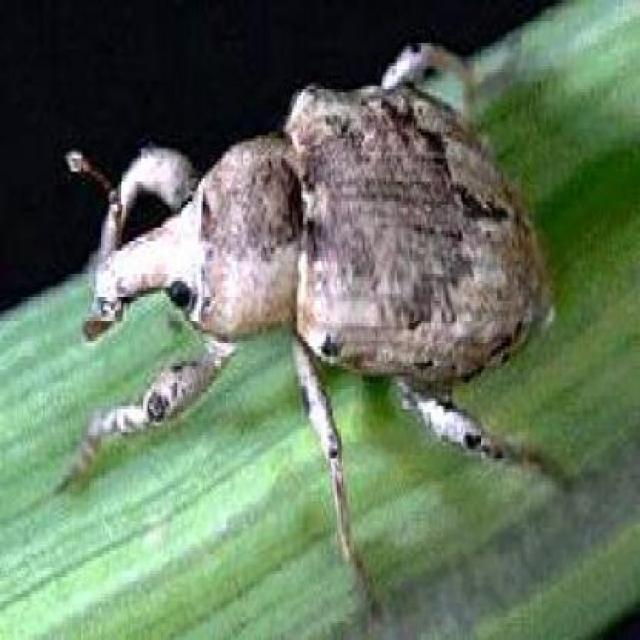rice-bug: (76, 40, 536, 486)
